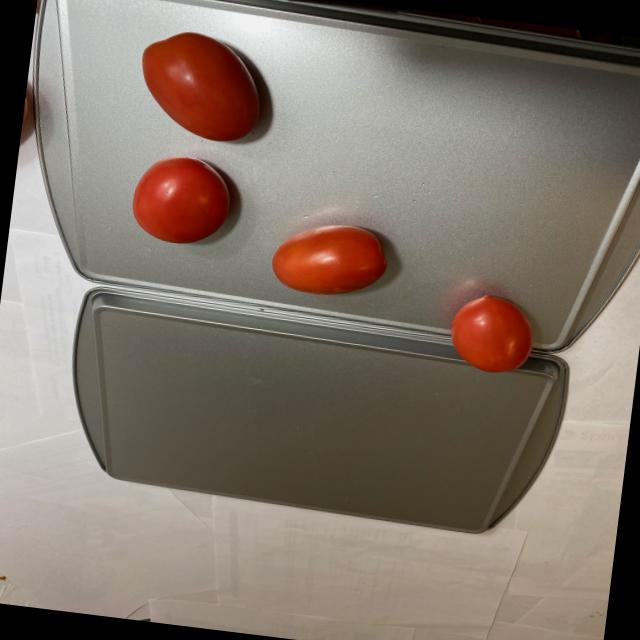tomato: (108, 24, 410, 302), (440, 286, 536, 374)
